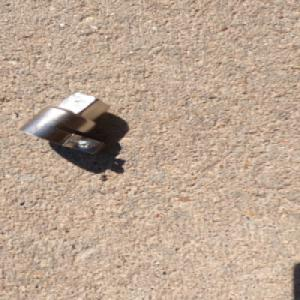MetalPart: (17, 91, 112, 155)
